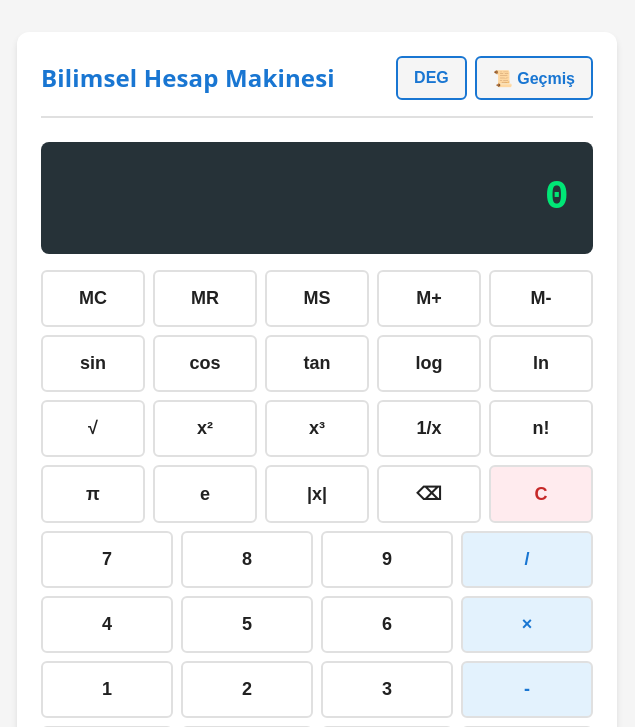
ScientificCalculator › Basic Arithmetic Operations › should perform addition
What coordinates should you click on to do the following:
click the button labelled "5"
I would click on:
 (247, 624)
Its box is x1=181 y1=596 x2=313 y2=653.
(page scrolled)
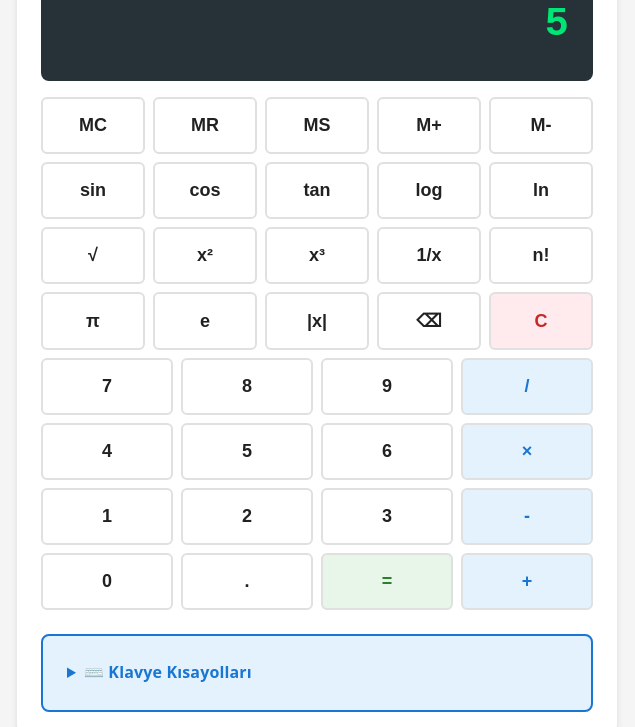
What coordinates should you click on to do the following:
click the button named "Toplama"
I would click on:
 (527, 582)
Its box is x1=461 y1=553 x2=593 y2=610.
(page scrolled)
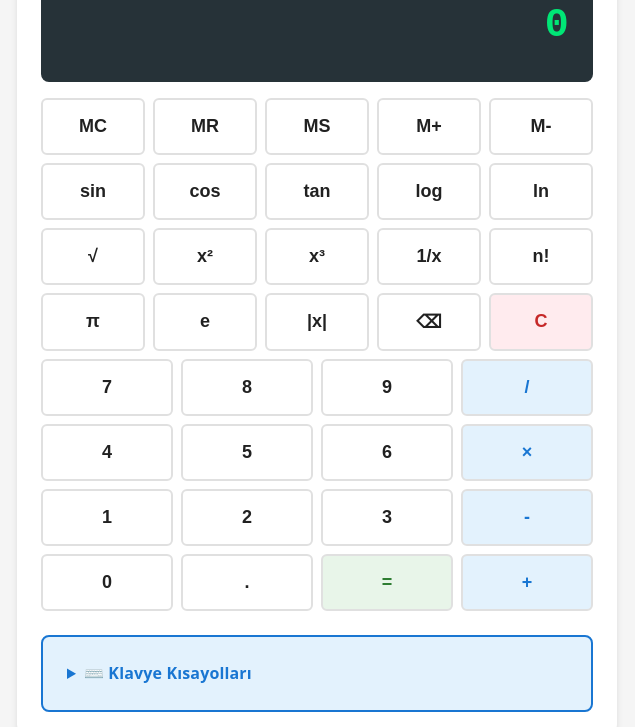
What coordinates should you click on to do the following:
click the button labelled "3"
I would click on:
 (387, 517)
Its box is x1=321 y1=489 x2=453 y2=546.
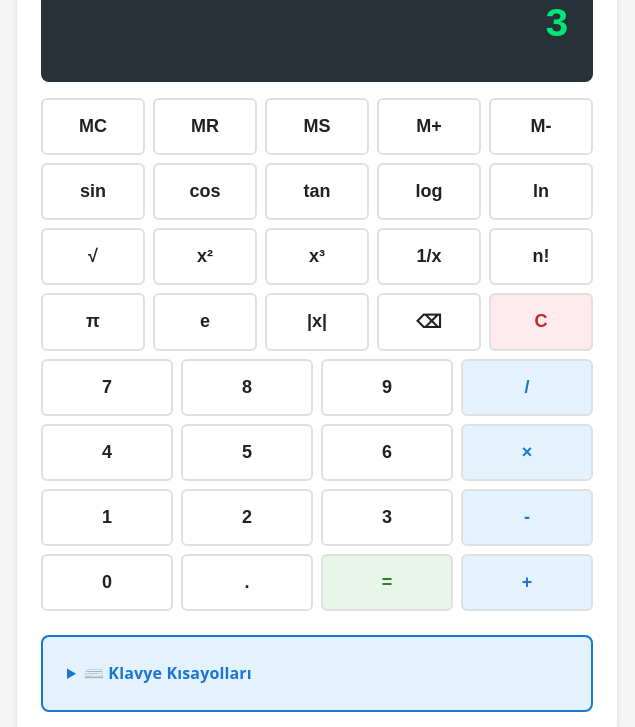
What coordinates should you click on to do the following:
click the button named "Eşittir"
I would click on:
 (387, 582)
Its box is x1=321 y1=554 x2=453 y2=611.
(page scrolled)
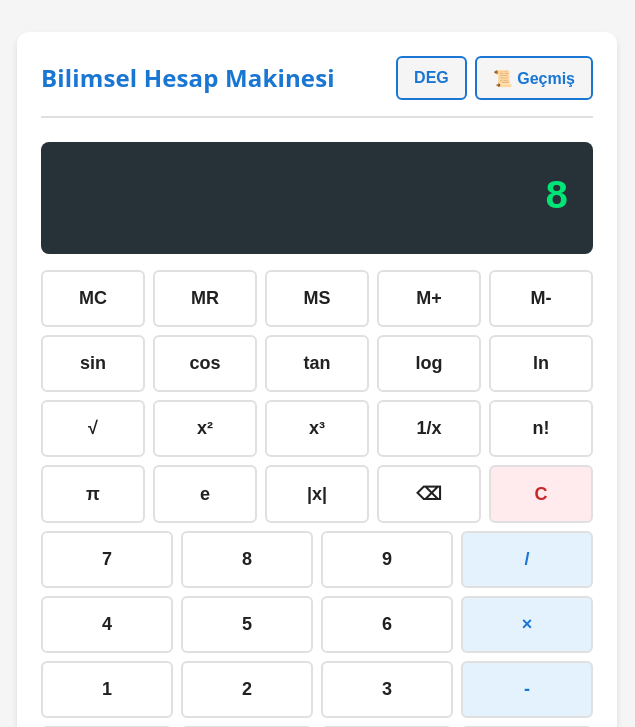
Now the text with class "main-display" reads "8", box x1=545 y1=175 x2=569 y2=220
